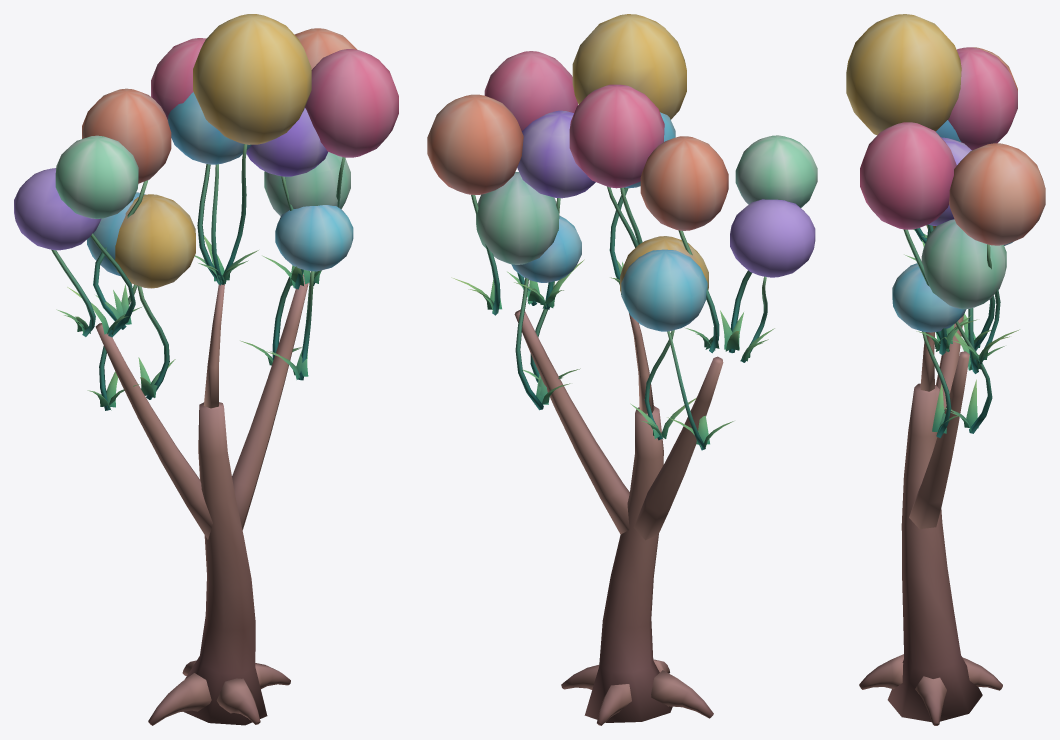
File: verdant_tree_balloon_b.glb
3 renders of one model, left to right at view 1: azimuth 30°, elevation 25°; view 2: azimuth 150°, elevation 25°; view 3: azimuth 270°, elevation 25°, orthographic. The views are drawn at different scales.
Visible parts, largest first — view 1: verdant_tree_balloon_b; view 2: verdant_tree_balloon_b; view 3: verdant_tree_balloon_b.
Part boxes in pixels (x1=…): verdant_tree_balloon_b: x1=14, y1=14, x2=398, y2=725; verdant_tree_balloon_b: x1=427, y1=14, x2=817, y2=725; verdant_tree_balloon_b: x1=846, y1=14, x2=1045, y2=725.
Bounding box in the file's own units: 5.21 × 9.6 × 2.5.
